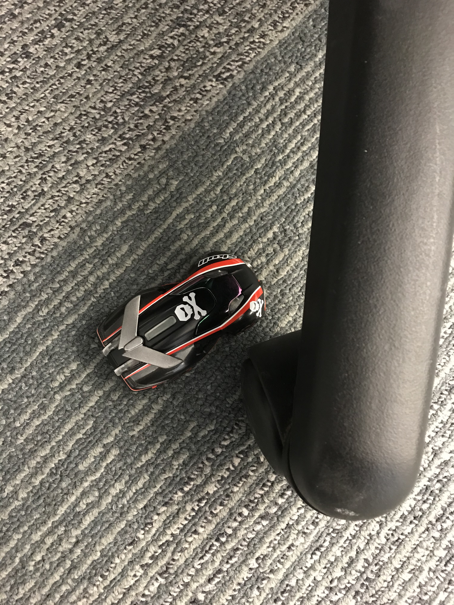Skull: (95, 252, 267, 392)
